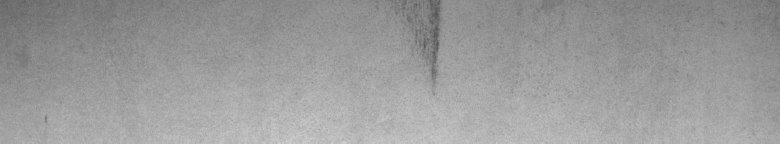ka: (400, 4, 446, 86)
